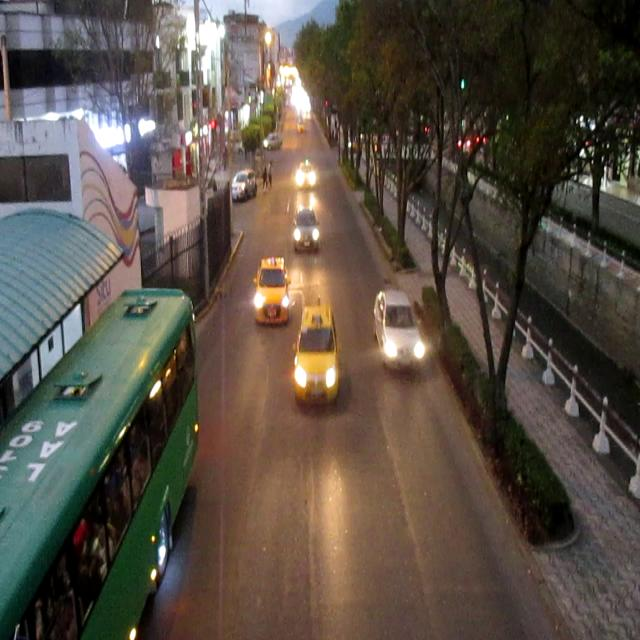BUS: (4, 289, 203, 638)
SUV: (234, 172, 256, 200)
